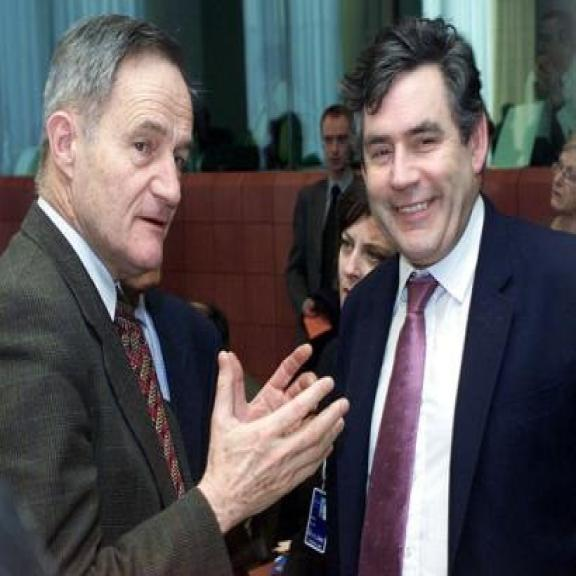face: (42, 49, 197, 285), (362, 68, 496, 265), (325, 212, 385, 310), (531, 16, 571, 82), (320, 115, 352, 175), (547, 145, 576, 211)
